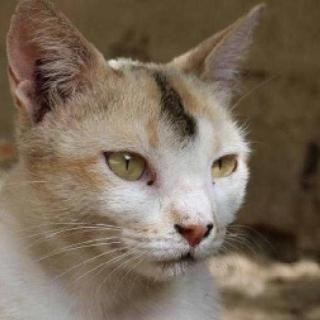cat: (4, 0, 269, 289)
nose: (157, 184, 220, 251)
